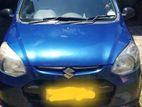car: (1, 0, 141, 107)
